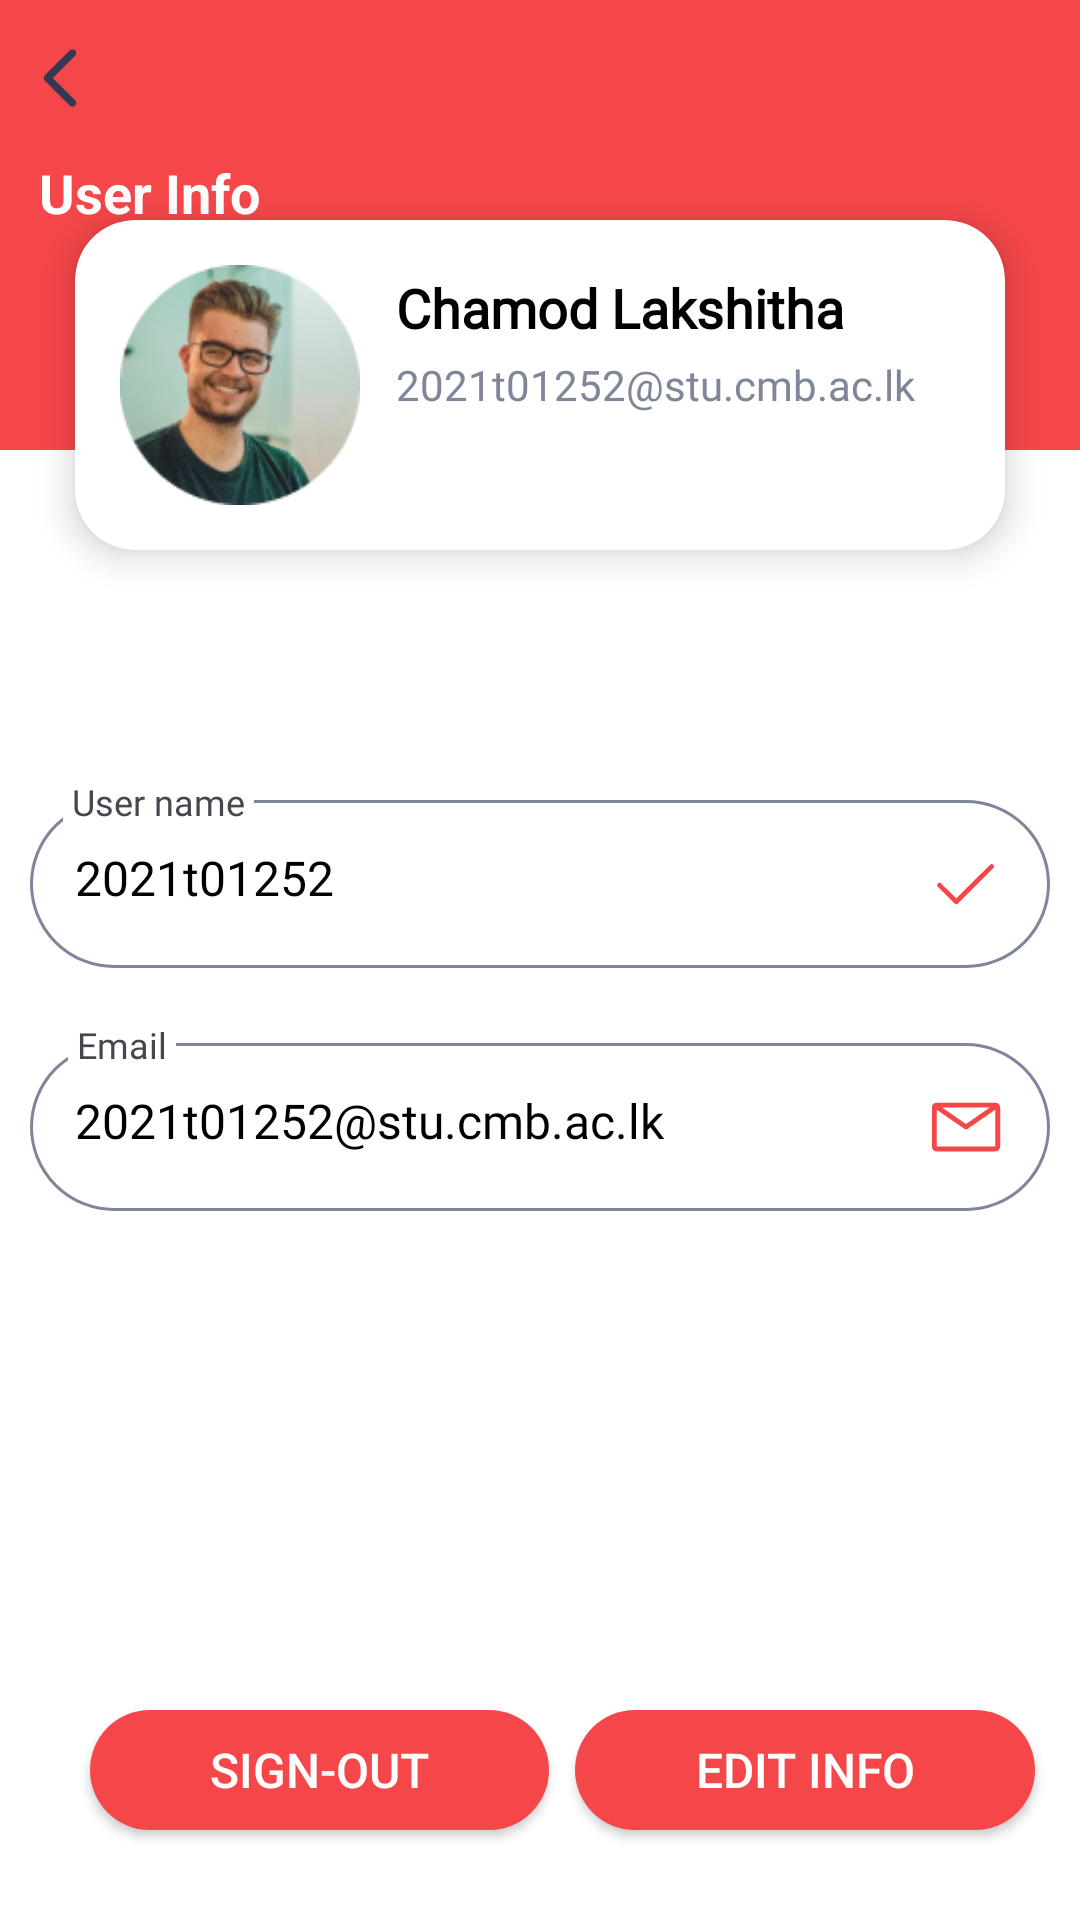

Icons on this 1080px x 1920px Android screen, each with its box as (x1, y1, x2, y2):
back: (43, 49, 77, 107)
profile photo: (120, 265, 360, 505)
